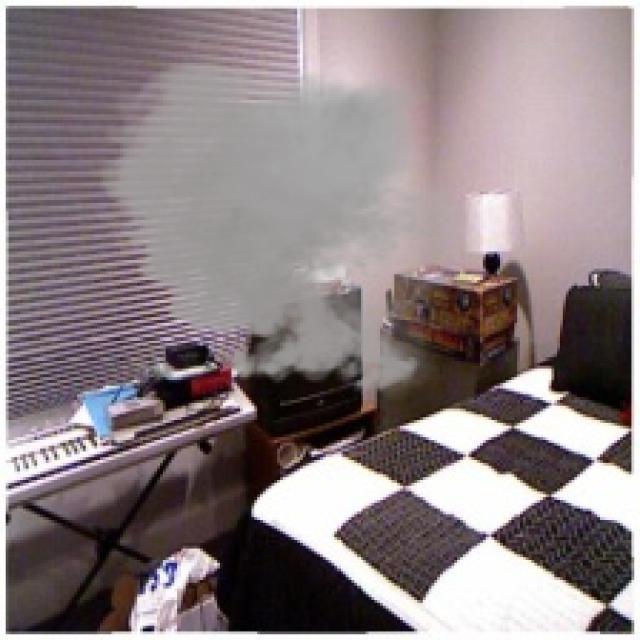Smoke: (86, 48, 483, 403)
